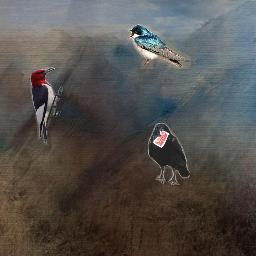Crow: (148, 123, 190, 185)
Swallow: (127, 24, 191, 69)
Woodpecker: (30, 67, 63, 145)
